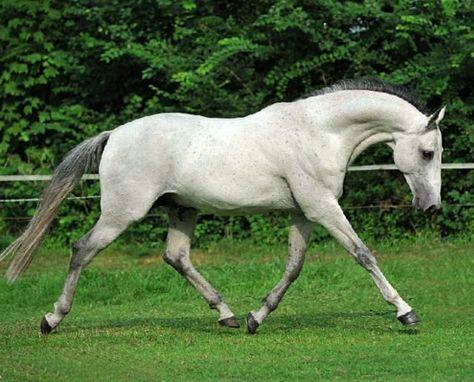horse: (0, 75, 447, 335)
